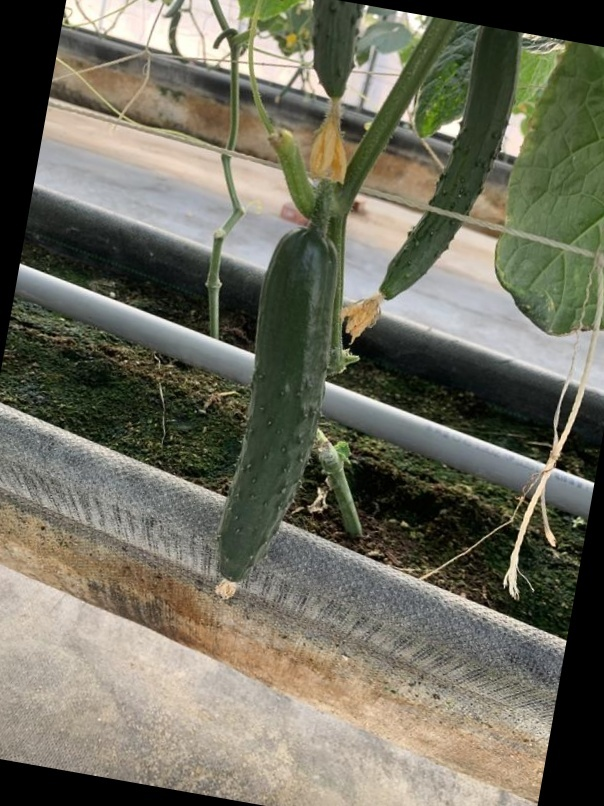mature: (210, 238, 342, 588), (376, 25, 526, 303)
